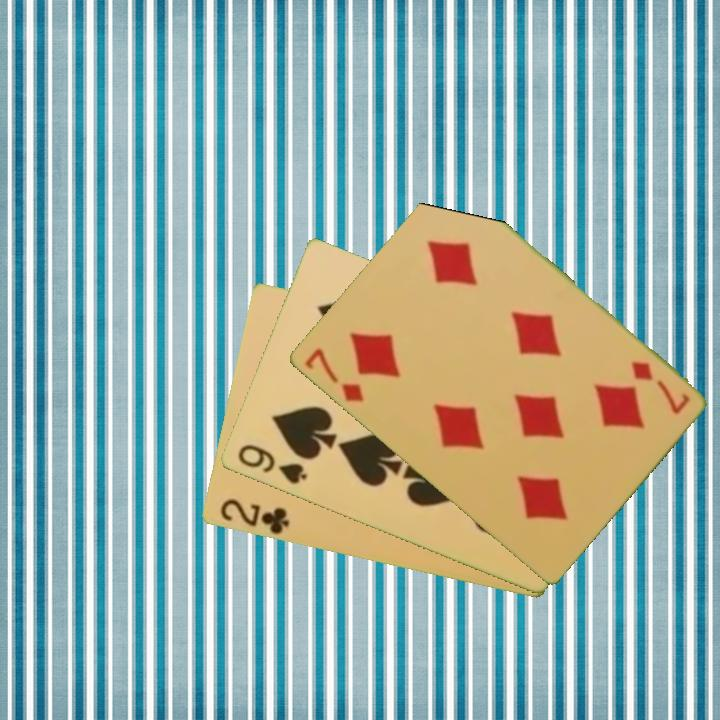2c: (216, 495, 292, 537)
7d: (300, 344, 367, 405), (627, 357, 693, 417)
9s: (233, 441, 310, 488)
